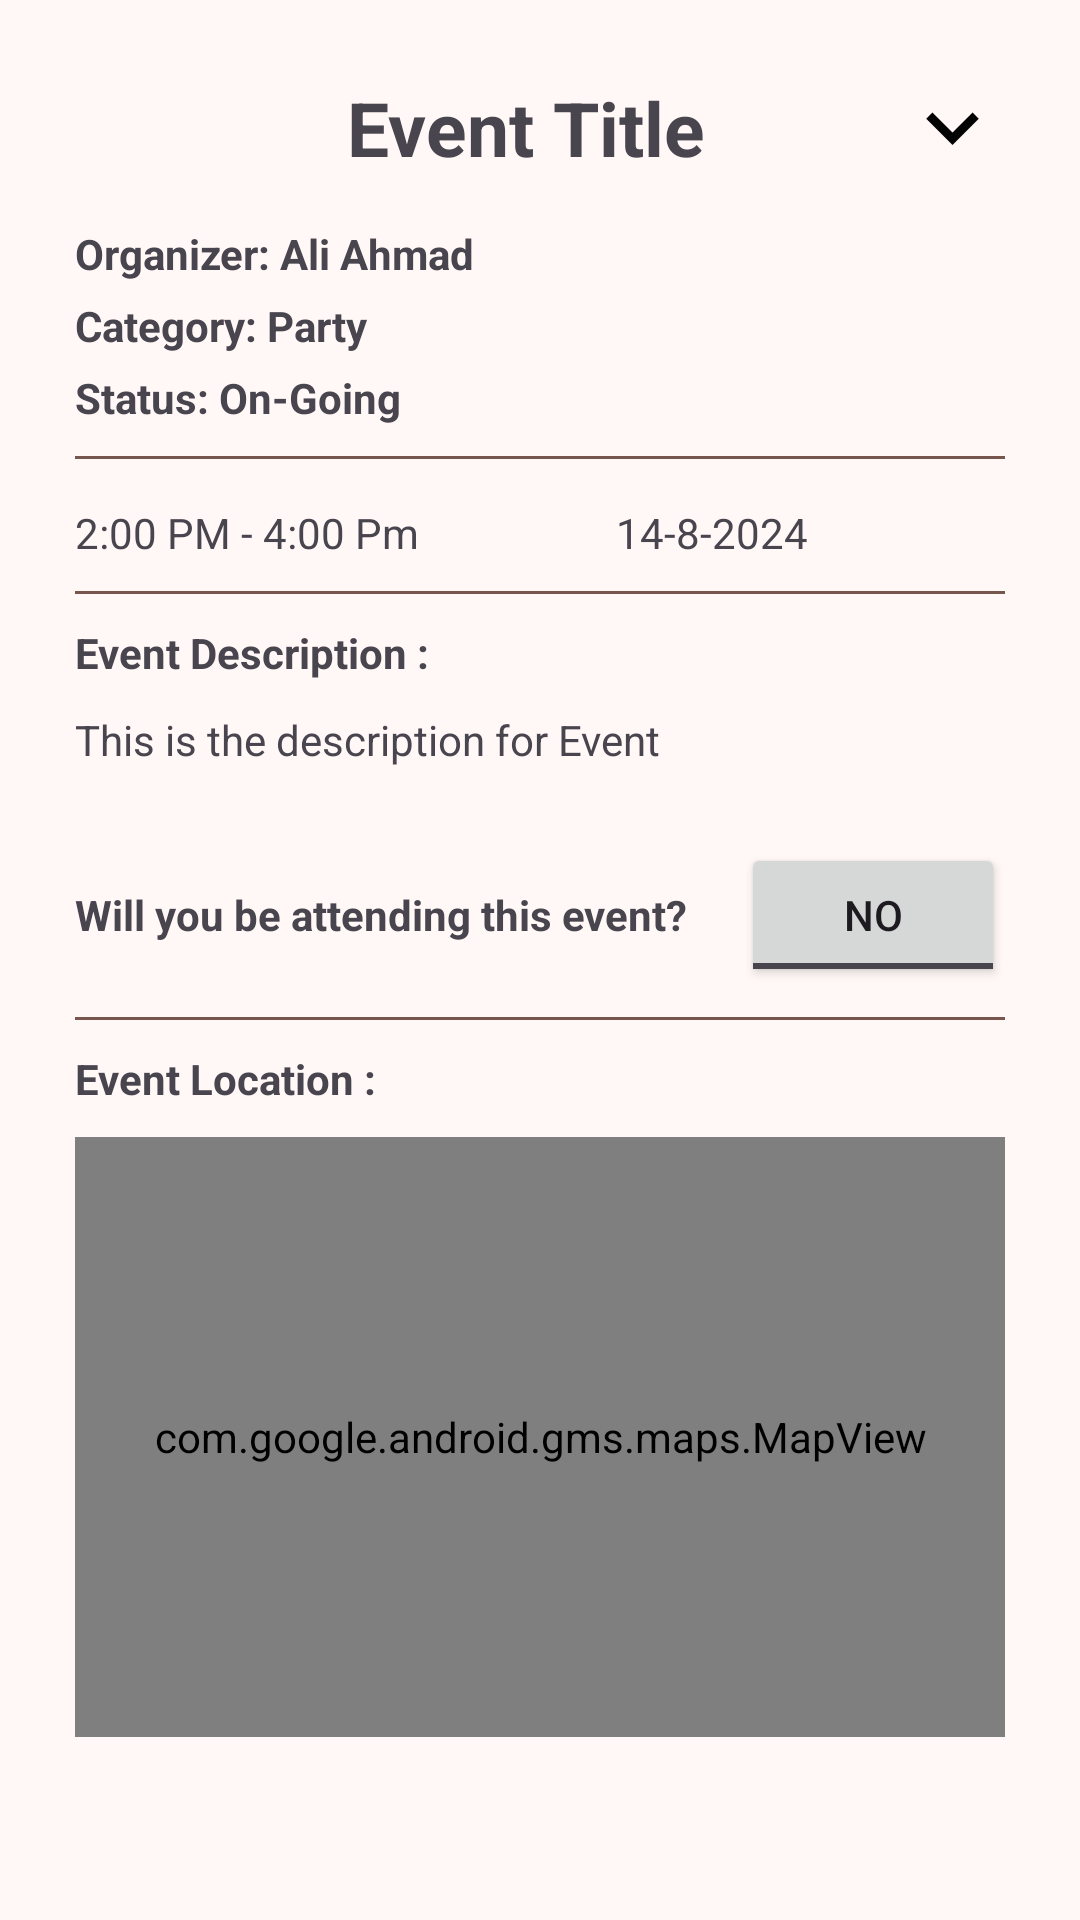

Locate icon controls on the screen. Image size 1080x1920, boxes as [x1, y1, x2, y2].
down: [926, 112, 979, 145]
